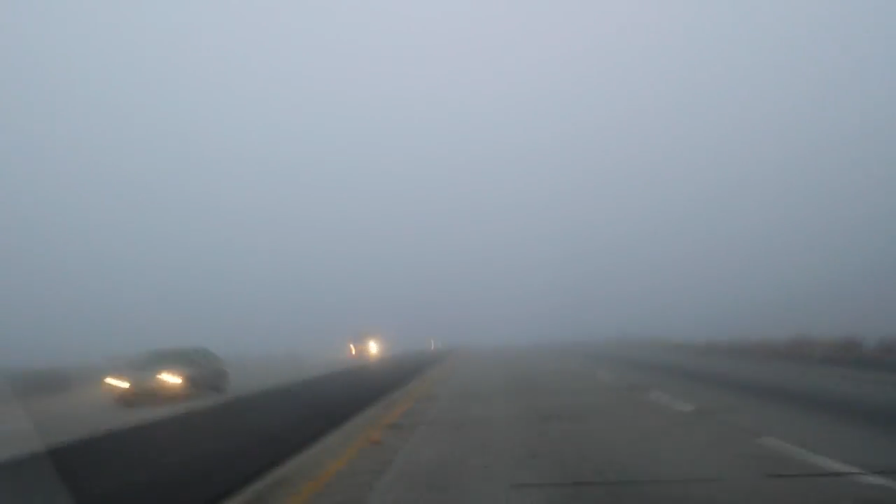car: (103, 345, 231, 408), (347, 335, 387, 360)
